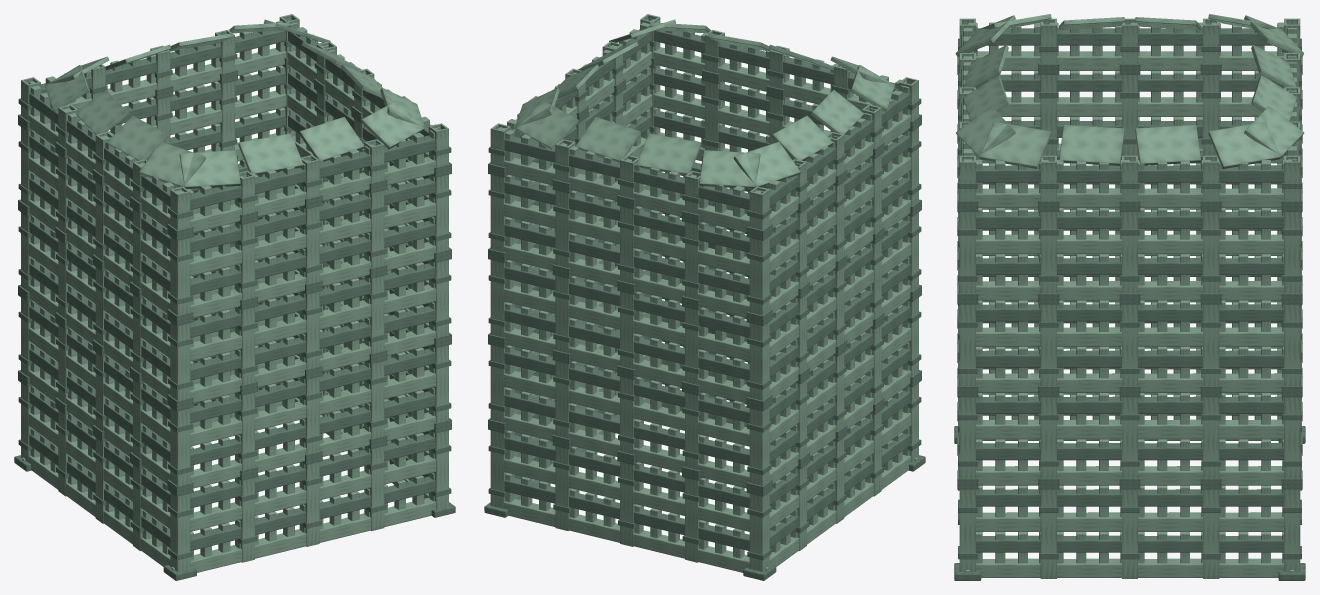
The picture shows the model from 3 angles, left to right: view 1: azimuth 30°, elevation 25°; view 2: azimuth 150°, elevation 25°; view 3: azimuth 270°, elevation 25°; orthographic projection. The views are drawn at different scales.
Parts seen in each view (by area): view 1: Crown alloy petal 0-1, Crown alloy petal 0-0, Crown alloy petal 0-2, Crown alloy petal 3-3, Crown alloy petal 3-2, Crown alloy petal 0-3, Tier 0 side 0 post 0, Tier 3 side 0 post 0, Tier 2 side 0 post 0, Tier 1 side 0 post 0, Crown alloy petal 3-1, Crown alloy petal 3-0 (+121 smaller); view 2: Crown alloy petal 2-2, Crown alloy petal 2-3, Crown alloy petal 2-1, Crown alloy petal 3-0, Crown alloy petal 3-1, Crown alloy petal 2-0, Tier 0 side 3 post 0, Tier 3 side 3 post 0, Tier 2 side 3 post 0, Tier 1 side 3 post 0, Crown alloy petal 3-2, Crown alloy petal 3-3 (+121 smaller); view 3: Crown alloy petal 1-2, Crown alloy petal 1-1, Crown alloy petal 1-3, Crown alloy petal 1-0, Crown alloy petal 0-3, Crown alloy petal 2-0, Tier 0 side 1 post 1, Tier 0 side 1 post 3, Tier 0 side 1 post 2, Tier 0 side 1 post 0, Tier 0 side 2 post 0, Tier 3 bay 1-1-2 shield lower edge (+121 smaller).
Boxes of the visible parts, box(x1,y1,x2,y2) form: Crown alloy petal 0-1: box(238, 133, 303, 174); Crown alloy petal 0-0: box(179, 150, 240, 188); Crown alloy petal 0-2: box(299, 116, 364, 161); Crown alloy petal 3-3: box(139, 142, 206, 187); Crown alloy petal 3-2: box(106, 115, 168, 160); Crown alloy petal 0-3: box(360, 100, 424, 149); Tier 0 side 0 post 0: box(170, 492, 190, 571); Tier 3 side 0 post 0: box(170, 236, 190, 315); Tier 2 side 0 post 0: box(170, 321, 190, 400); Tier 1 side 0 post 0: box(170, 407, 190, 485); Crown alloy petal 3-1: box(76, 90, 129, 134); Crown alloy petal 3-0: box(45, 65, 89, 111); Crown alloy petal 2-2: box(636, 133, 701, 175); Crown alloy petal 2-3: box(699, 150, 760, 188); Crown alloy petal 2-1: box(575, 116, 640, 162); Crown alloy petal 3-0: box(733, 142, 800, 187); Crown alloy petal 3-1: box(771, 115, 833, 160); Crown alloy petal 2-0: box(515, 100, 579, 149); Tier 0 side 3 post 0: box(749, 492, 769, 571); Tier 3 side 3 post 0: box(749, 236, 769, 315); Tier 2 side 3 post 0: box(749, 321, 769, 400); Tier 1 side 3 post 0: box(749, 407, 769, 485); Crown alloy petal 3-2: box(810, 90, 864, 134); Crown alloy petal 3-3: box(850, 65, 894, 111); Crown alloy petal 1-2: box(1135, 125, 1200, 165); Crown alloy petal 1-1: box(1059, 125, 1124, 165); Crown alloy petal 1-3: box(1208, 121, 1280, 168); Crown alloy petal 1-0: box(980, 121, 1051, 168); Crown alloy petal 0-3: box(956, 106, 1015, 158); Crown alloy petal 2-0: box(1244, 106, 1304, 158); Tier 0 side 1 post 1: box(1040, 489, 1056, 578); Tier 0 side 1 post 3: box(1203, 489, 1219, 578); Tier 0 side 1 post 2: box(1122, 489, 1137, 578); Tier 0 side 1 post 0: box(959, 489, 975, 571); Tier 0 side 2 post 0: box(1284, 489, 1300, 571); Tier 3 bay 1-1-2 shield lower edge: box(1138, 234, 1202, 254).
Bounding box in the file's own units: 1.95 × 2.66 × 1.95.
Materials: 2 (2 with a texture image).
